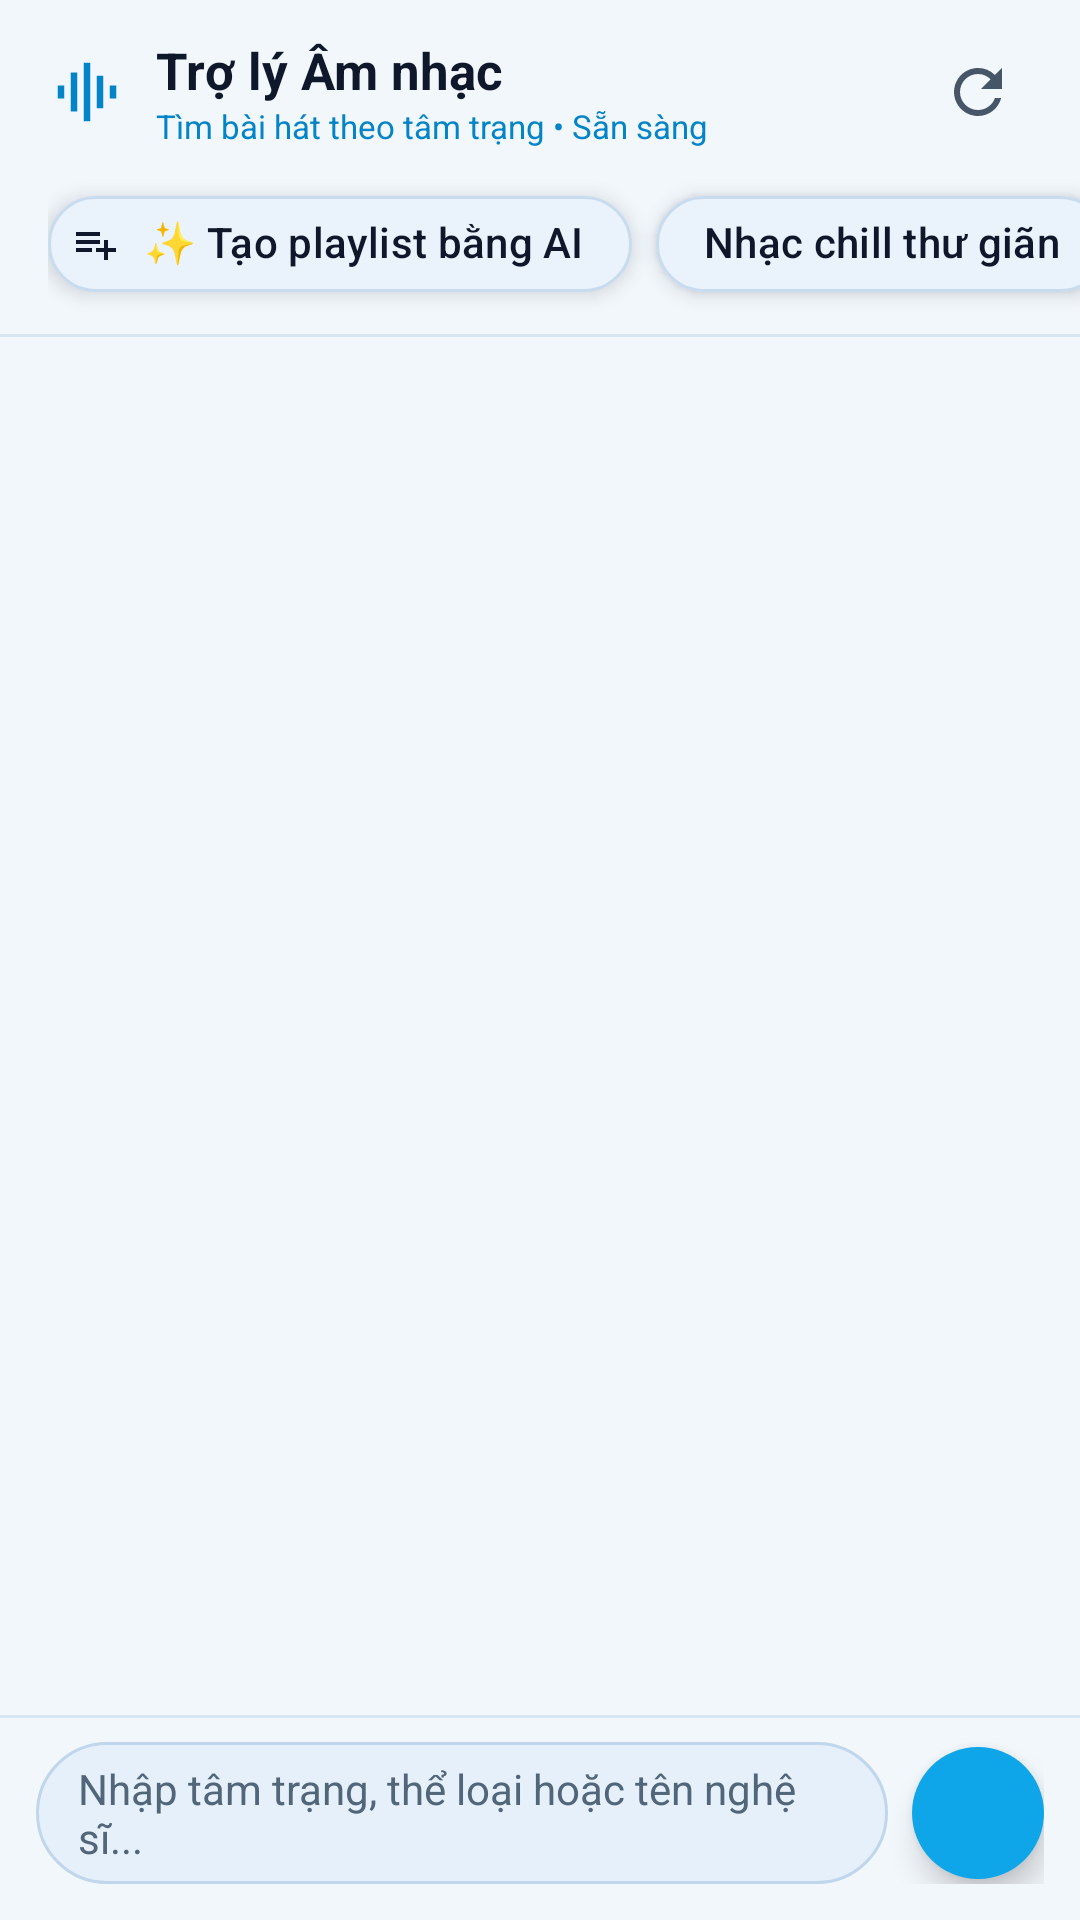

Named icons in this screenshot (1080x1920) and their bounding boxes, (x1, y1, x2, y2):
assistant wave: (57, 62, 117, 122)
Làm mới cuộc trò chuyện: (954, 68, 1002, 116)
